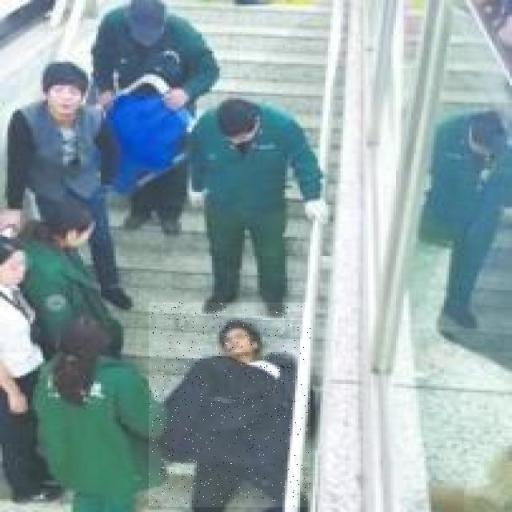Fall: (149, 303, 310, 508)
